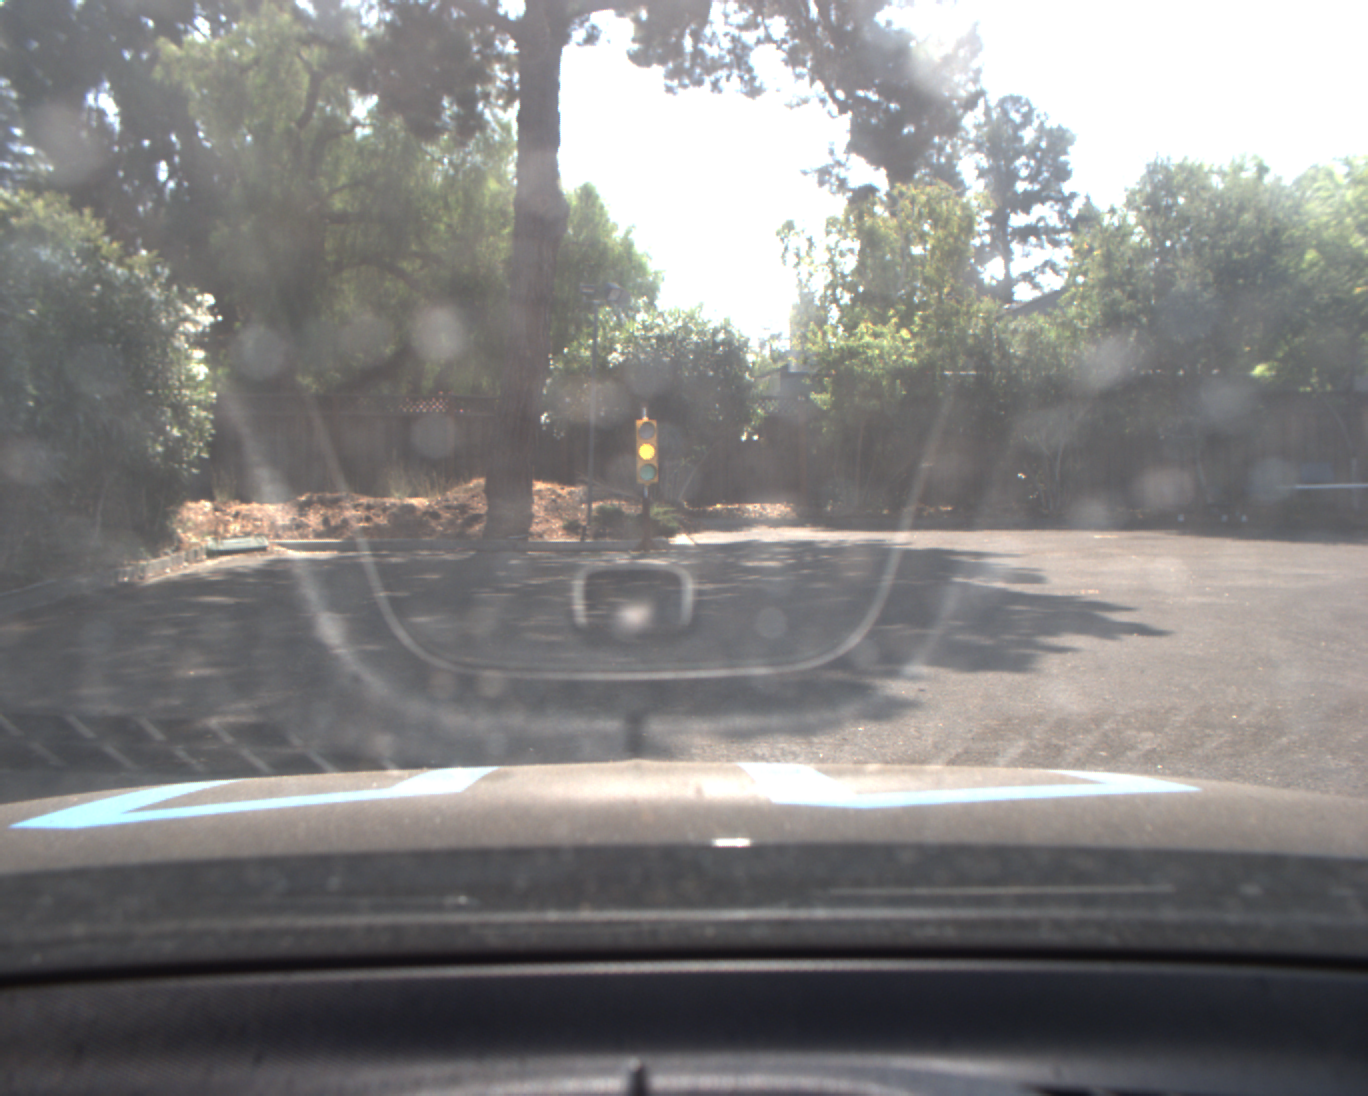yellow: (632, 415, 660, 486)
